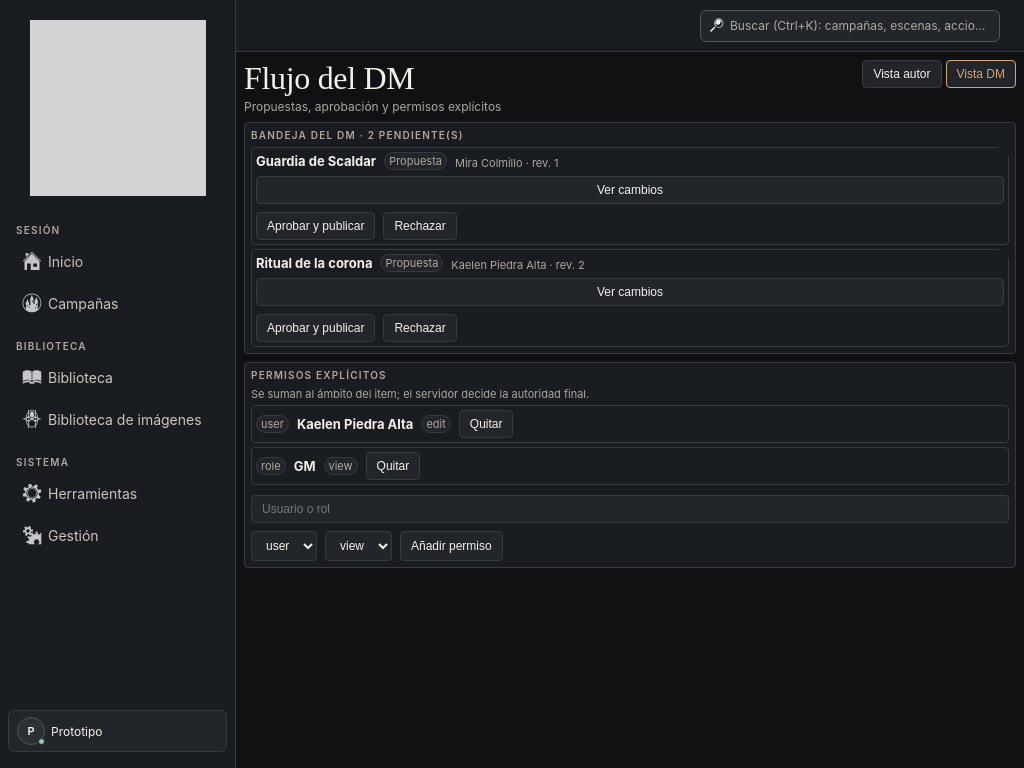
Test: Prototipo flujo del DM (PMB-4.8) › muestra el diff y aprueba una propuesta como DM
Expected: the heading "Bandeja del DM · 2 pendiente(s)" is shown, [251, 129, 464, 141]
Click the button "Ver cambios" below "Guardia de Scaldar" at (630, 190), box [256, 176, 1004, 204]
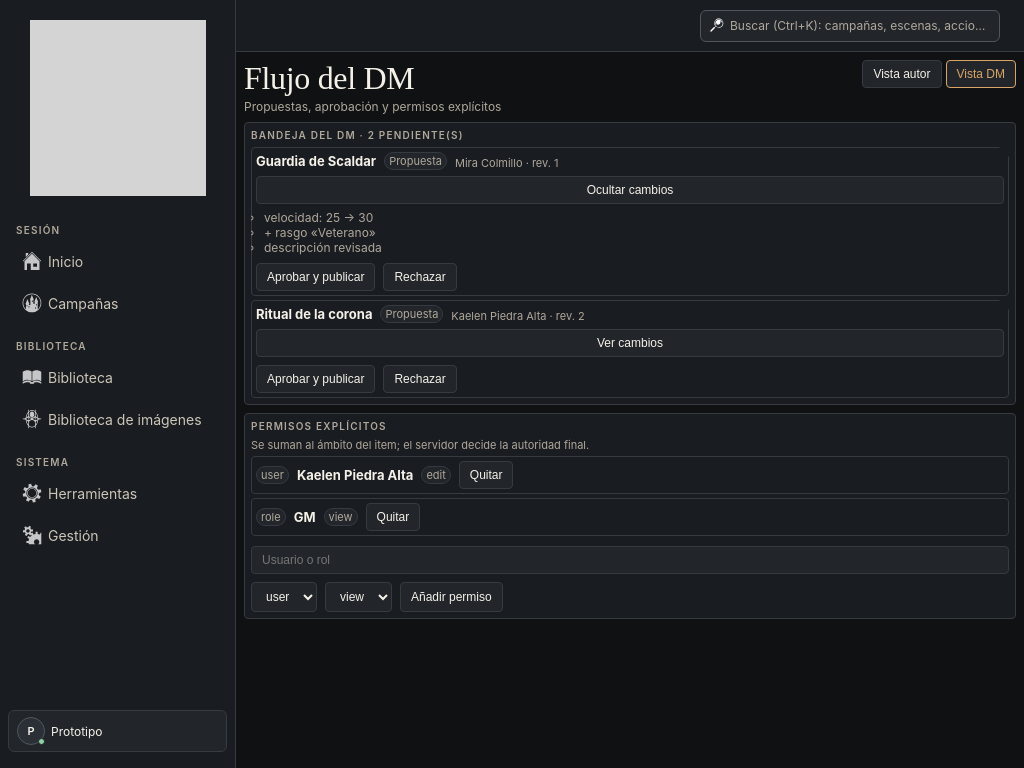
Expected: the list item "velocidad: 25 → 30" is shown, [264, 210, 373, 225]
Click the button "Aprobar y publicar" below "Guardia de Scaldar" at (316, 277), box [256, 263, 375, 291]
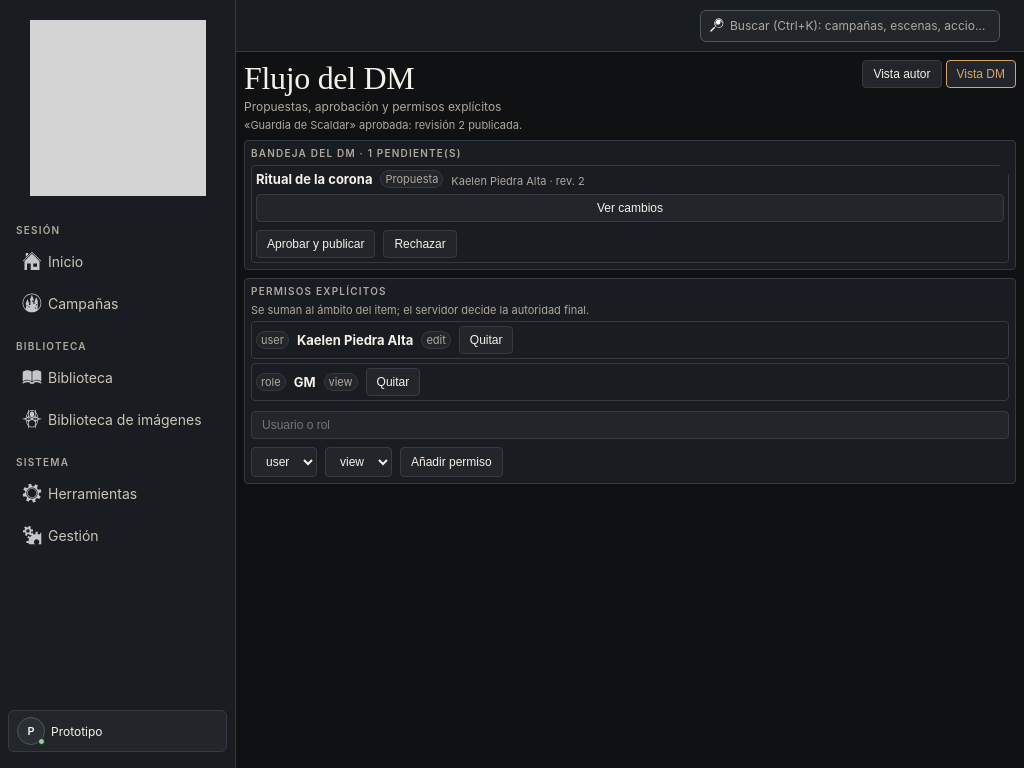
Expected: the heading "Bandeja del DM · 1 pendiente(s)" is shown, [251, 147, 462, 159]
Expected: the message shows "revisión 2 publicada", [244, 118, 522, 132]
